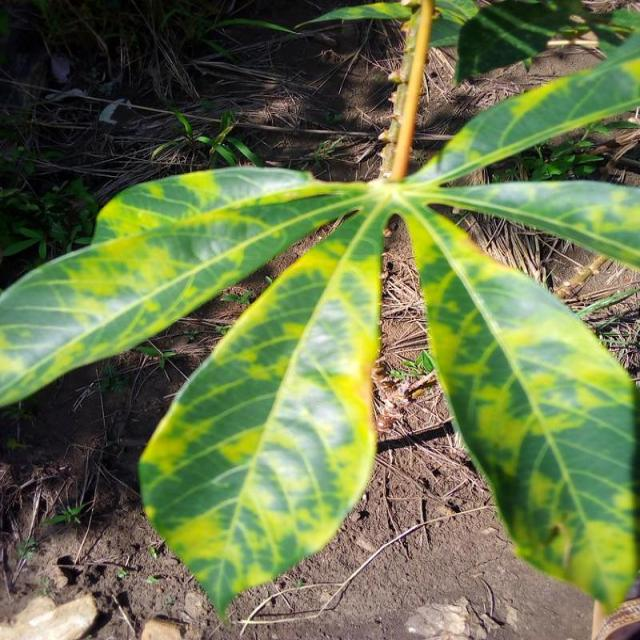cassava leaf: (1, 9, 638, 622), (136, 194, 386, 620), (400, 192, 638, 614), (0, 163, 369, 408)
